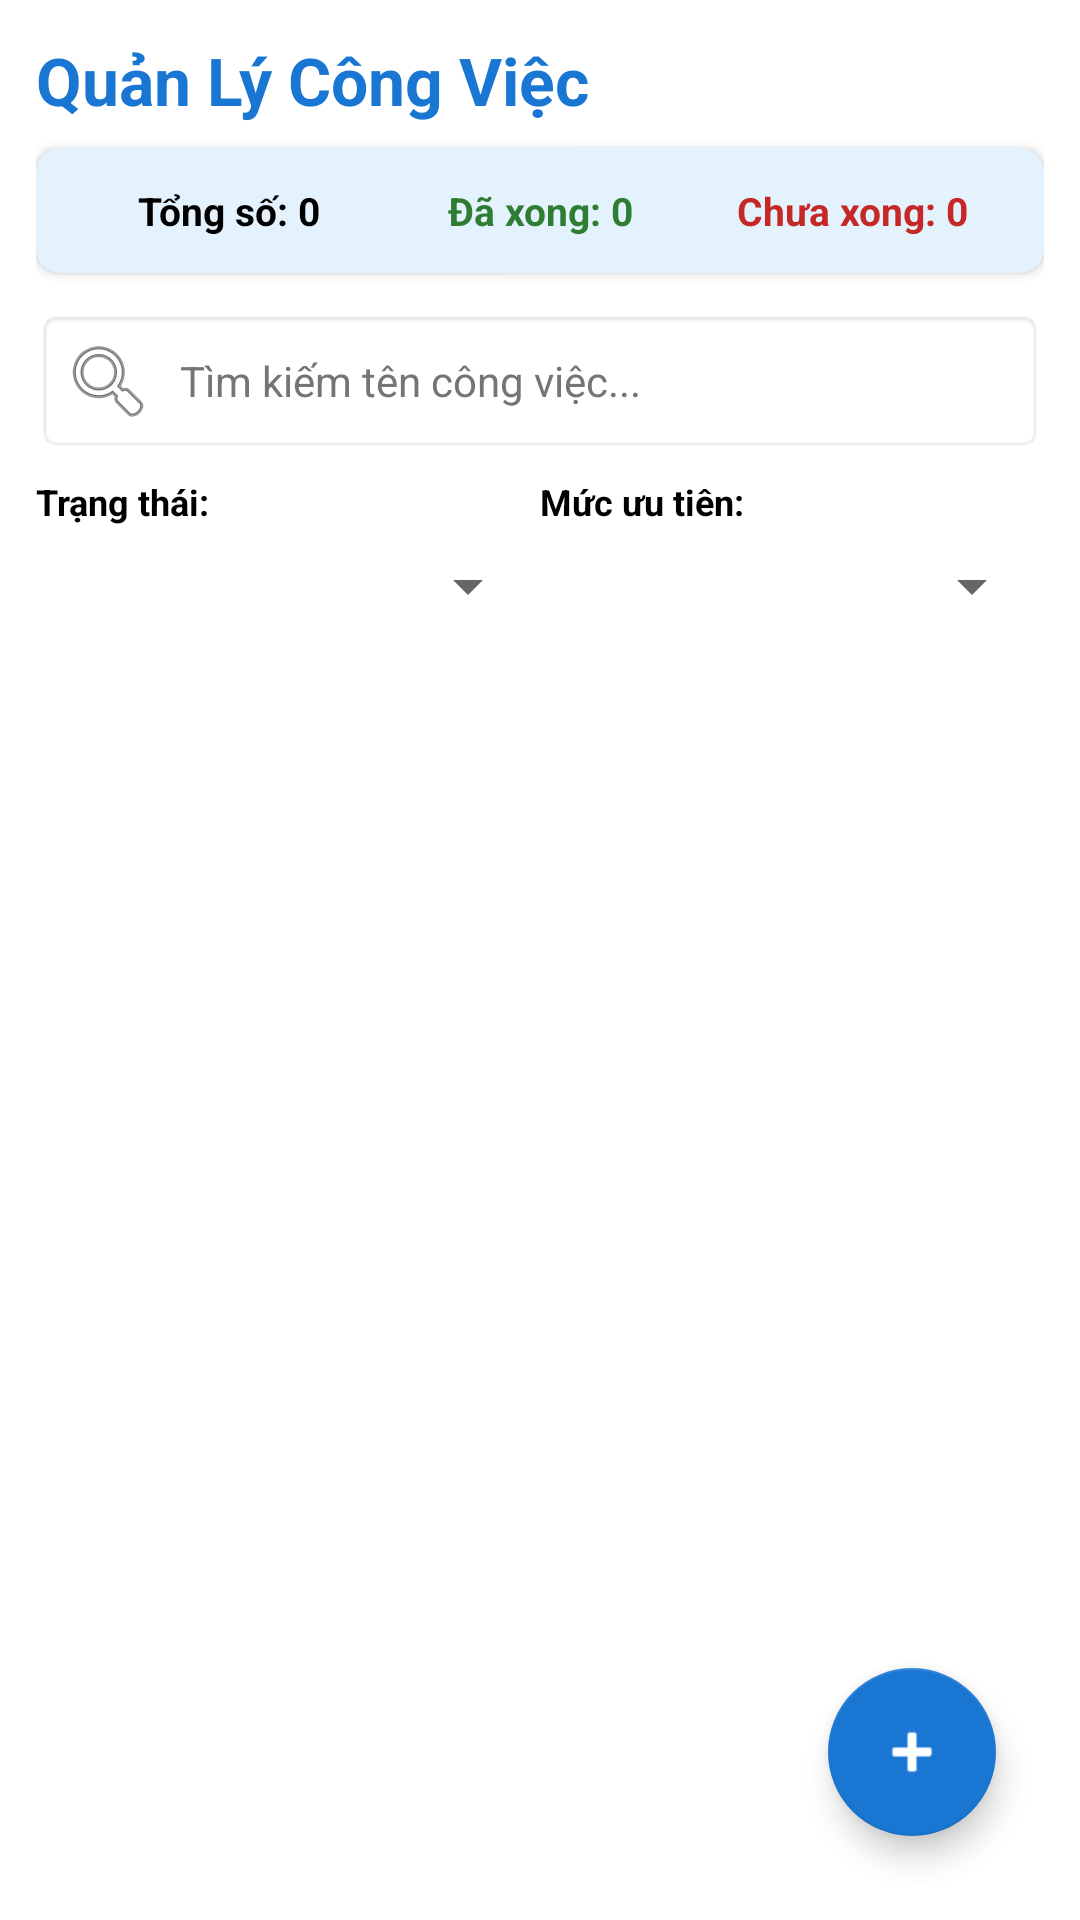

Screen size 1080×1920. Icon name, then its center in pixels as (x,y):
Thêm công việc: (912,1752)
